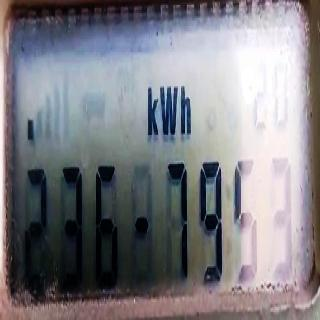-: (134, 213, 150, 239), (27, 115, 34, 142)
2: (20, 159, 46, 302)
3: (268, 146, 296, 288), (59, 160, 85, 298)
5: (232, 146, 260, 288)
6: (92, 156, 120, 301)
7: (165, 152, 192, 282)
9: (197, 153, 225, 290)
